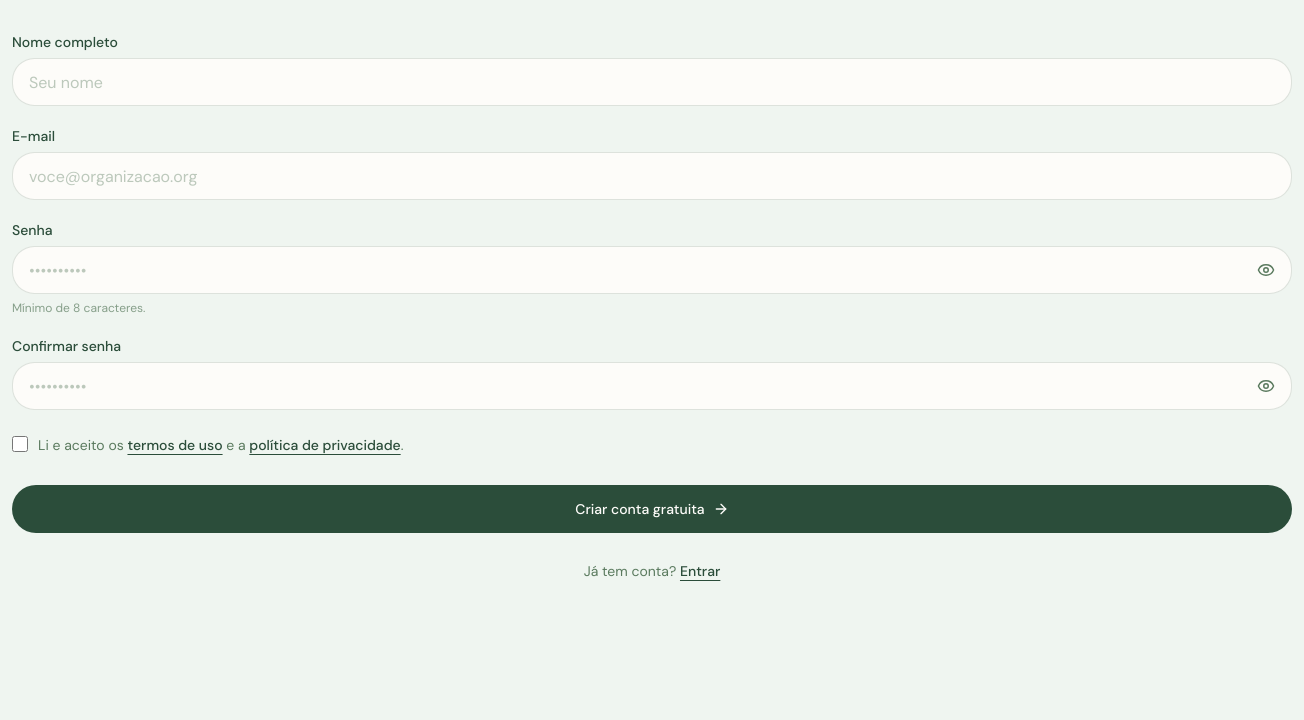
RegisterForm › valida que as senhas conferem
In the field labelled "Nome completo": (652, 82) [12,58,1292,106], type "Maria Silva"
In the field labelled "E-mail": (652, 176) [12,152,1292,200], type "maria@org.com"
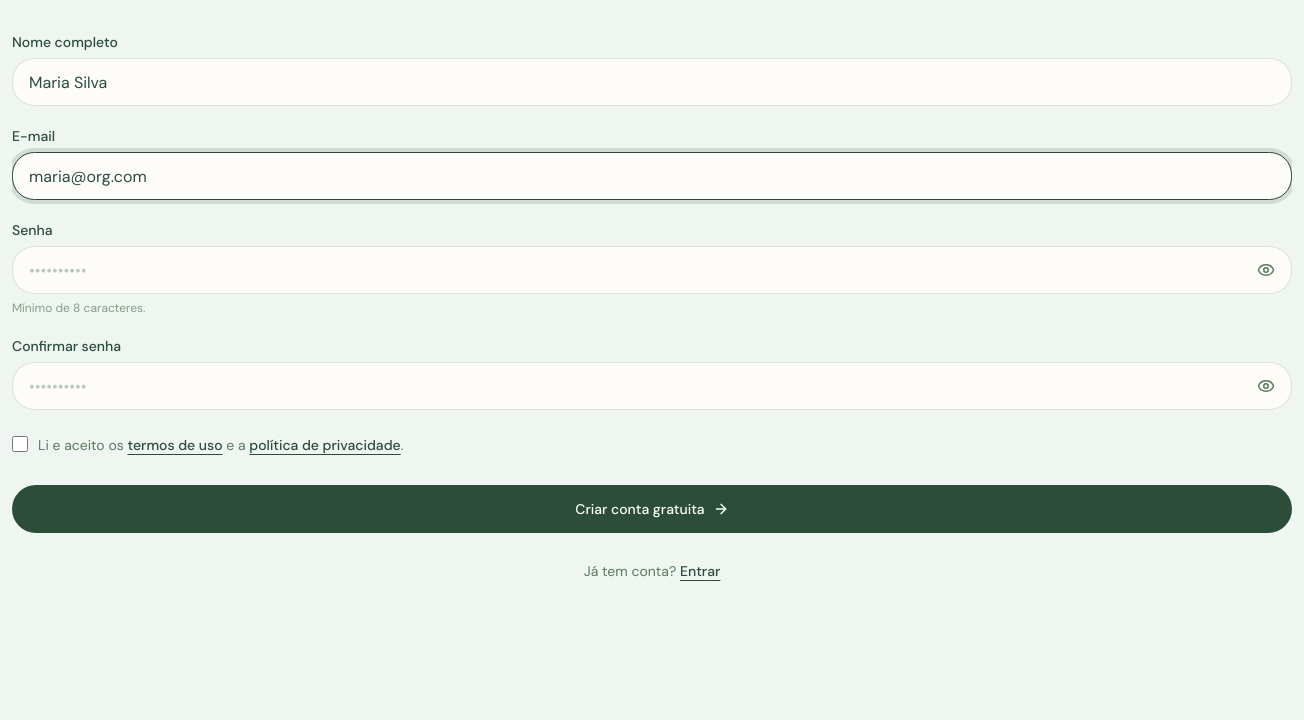
In the password field labelled "Senha": (652, 270) [12,246,1292,294], type "senha12345"
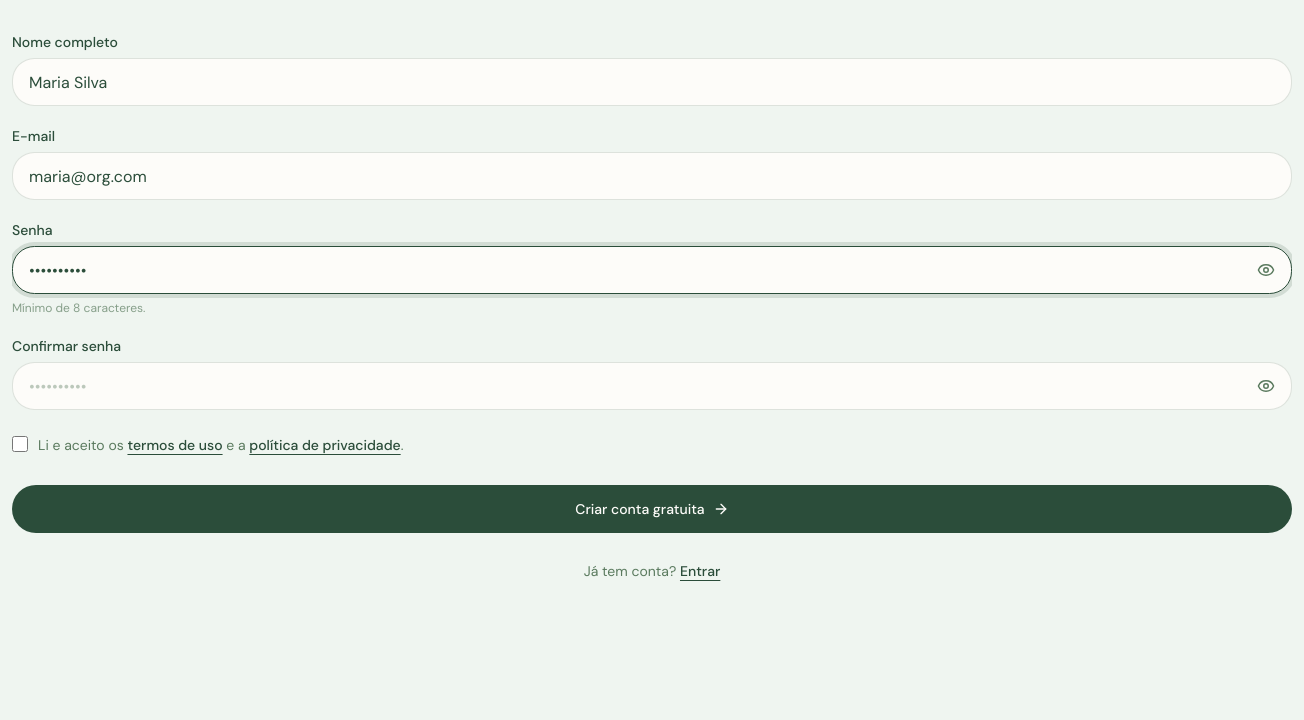
In the password field labelled "Confirmar senha": (652, 386) [12,362,1292,410], type "senha12345"
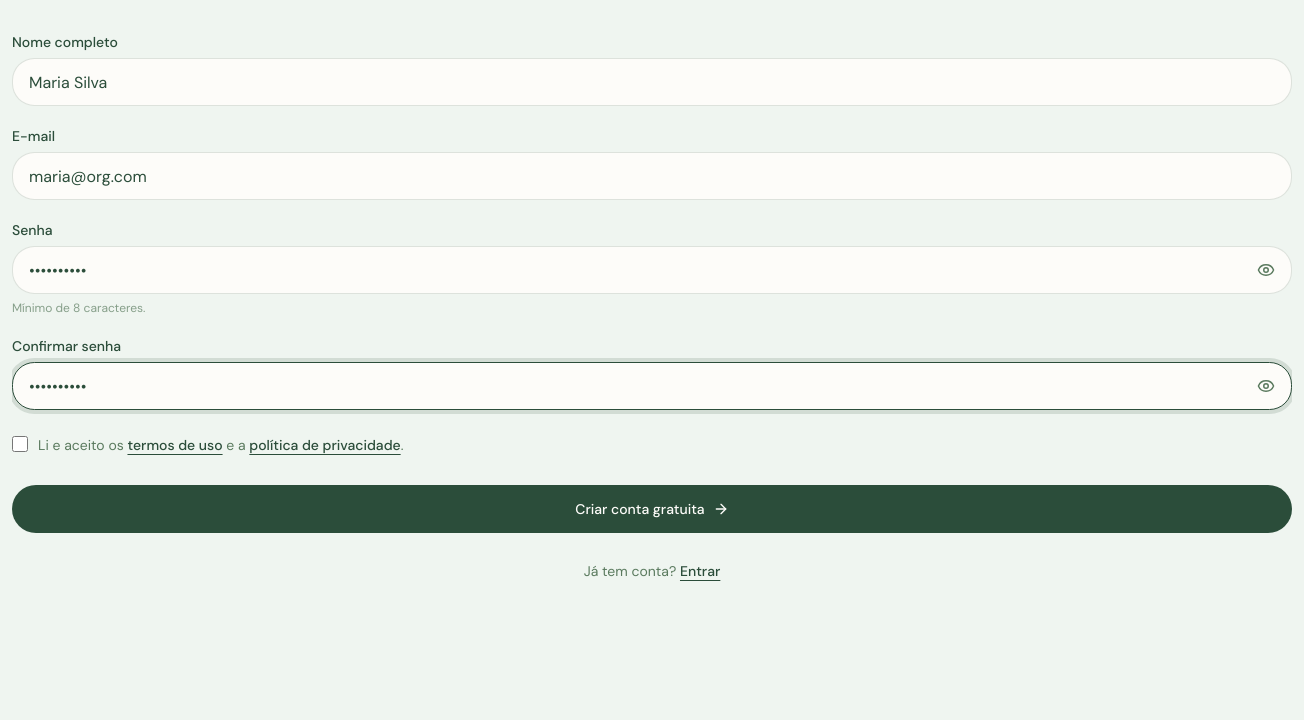
Click the checkbox labelled "Li e aceito os termos de uso e a política de privacidade .": (20, 444) [12,436,28,452]
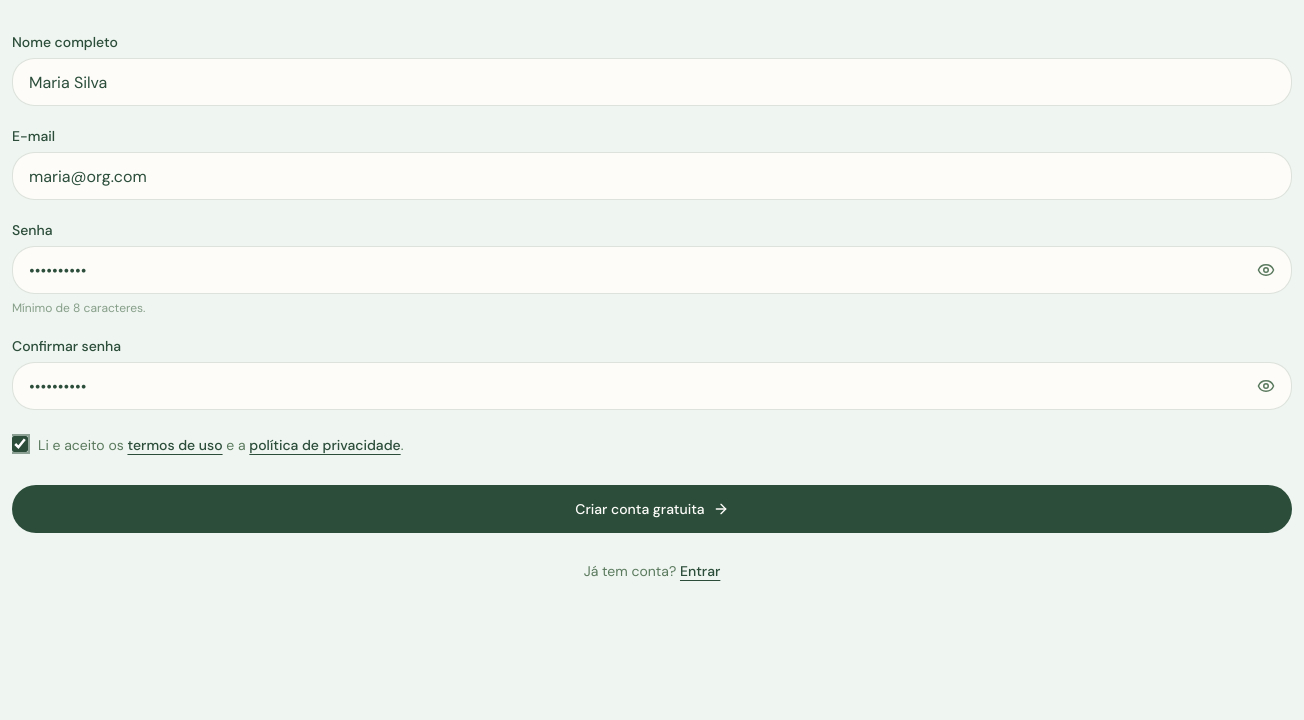
In the password field labelled "Confirmar senha": (652, 386) [12,362,1292,410], type "outra-senha"
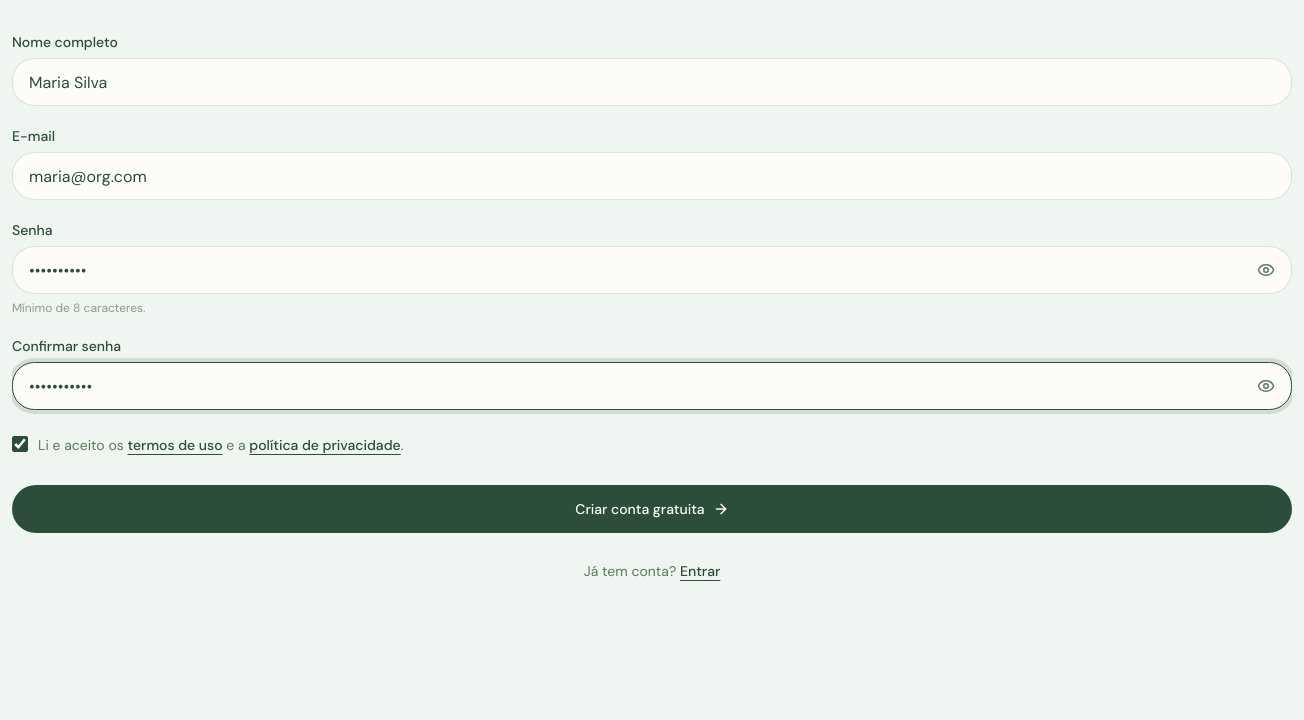
Click the button "Criar conta gratuita": (652, 509) [12,485,1292,533]
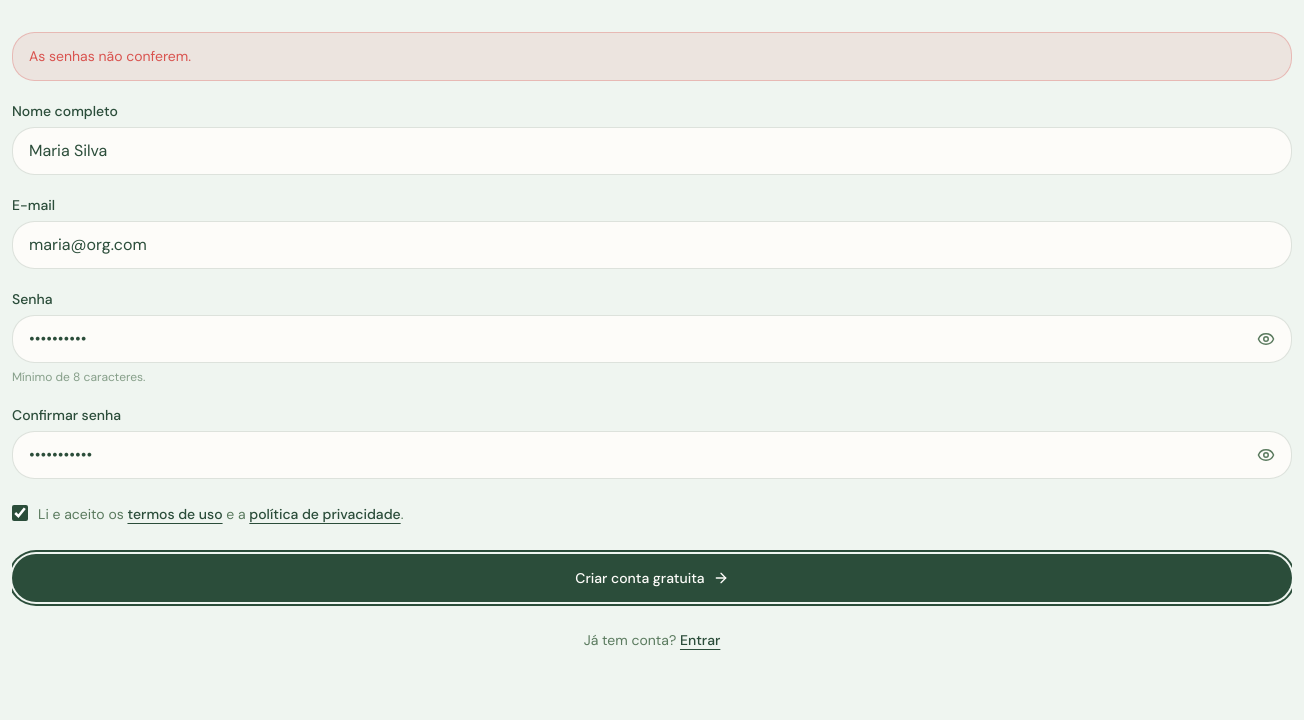
Now the message reads "As senhas não conferem.", box [29,47,191,65]
